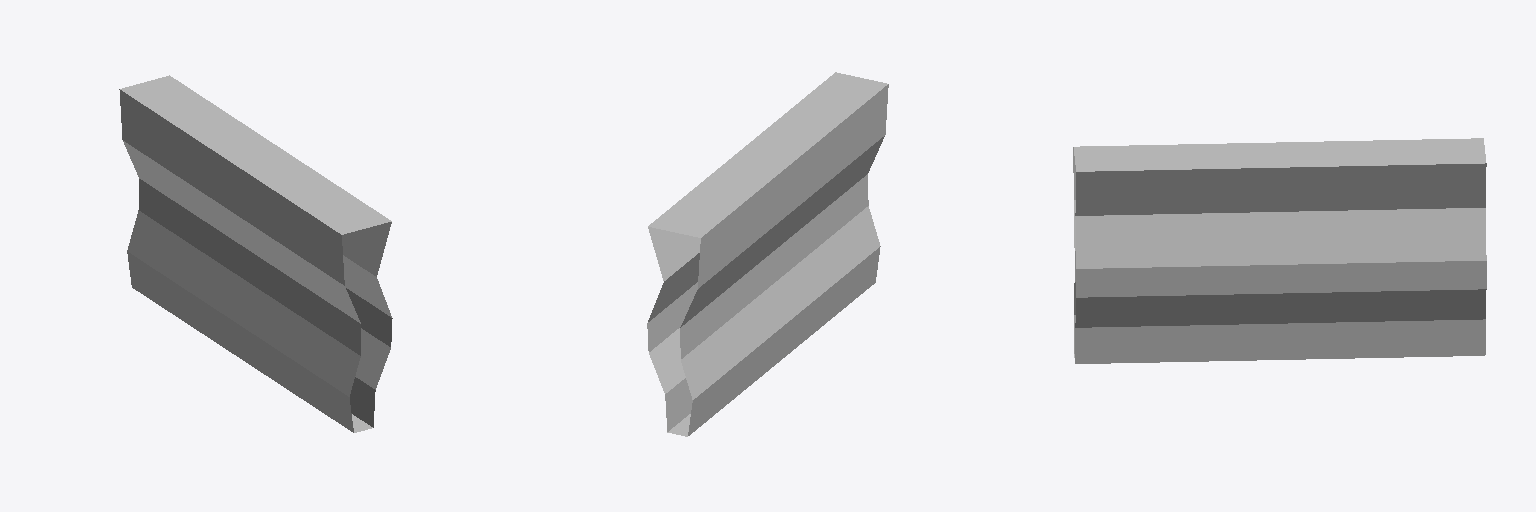
Rendered from original-12.obj.
3 renders of one model, left to right at view 1: azimuth 30°, elevation 25°; view 2: azimuth 150°, elevation 25°; view 3: azimuth 270°, elevation 25°, orthographic.
Visible parts, largest first — view 1: #ID96; view 2: #ID96; view 3: #ID96.
Part boxes in pixels (x1,y1,x2,y2): #ID96: (119,75,392,432); #ID96: (647,72,888,436); #ID96: (1073,138,1486,363).
Bounding box in the file's own units: 0.0034 × 0.0096 × 0.0177.